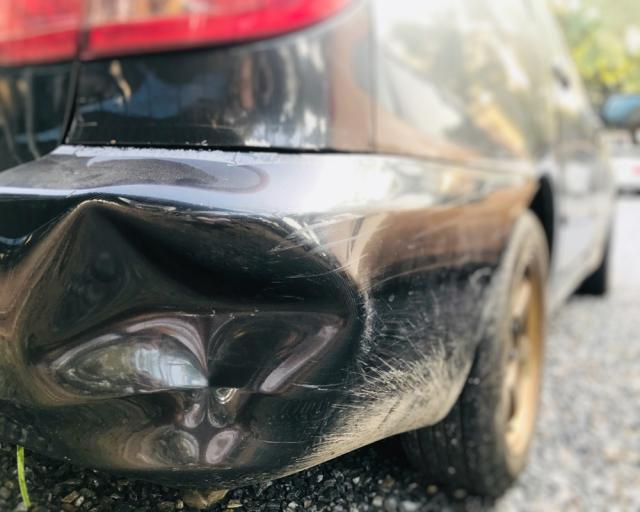dent: (7, 202, 350, 472)
